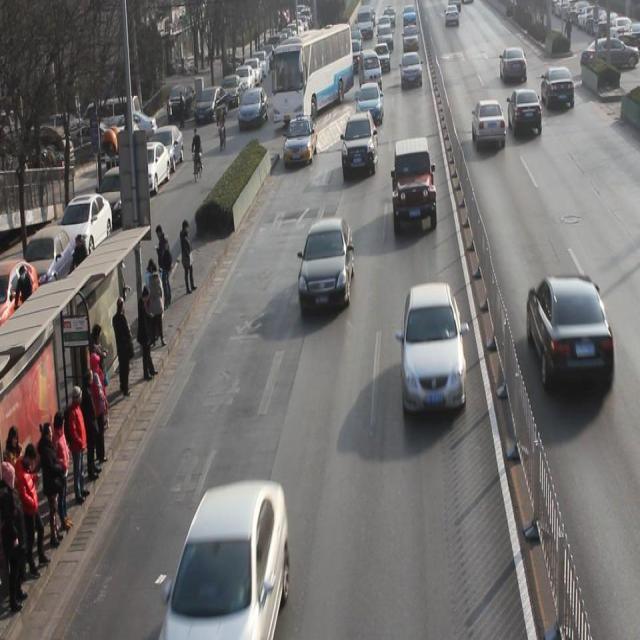car: (160, 477, 288, 640), (529, 272, 616, 393), (402, 283, 467, 415), (299, 218, 355, 311), (393, 136, 438, 235), (342, 110, 378, 177), (583, 35, 640, 69), (472, 98, 507, 149), (284, 114, 318, 166), (508, 86, 543, 136), (542, 66, 575, 111), (356, 80, 384, 125), (500, 46, 528, 83), (400, 51, 423, 90), (373, 41, 392, 73)
truck: (358, 48, 383, 93)
van: (272, 25, 352, 126)
